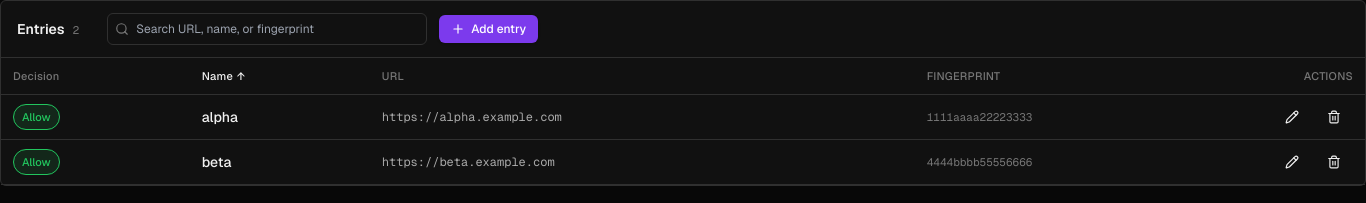
it: MCPPolicyEntryTable › filters rows to the search needle on URL, name, and fingerprint
This screenshot has width=1366, height=203.
Type "alpha" into the search field with test id "mcp-policy-entries-search-global".
click(267, 29); type("alpha")  # box [107,13,427,45]
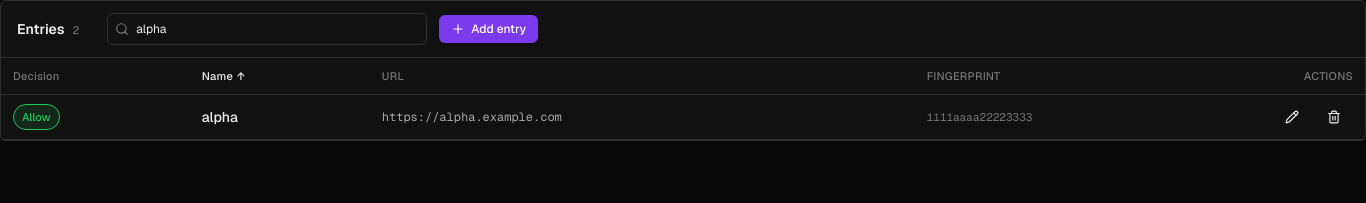
Expected: the row with test id "mcp-policy-entry-search-1" is shown, [1,94,1365,140]
Result: the row with test id "mcp-policy-entry-search-2" is gone
